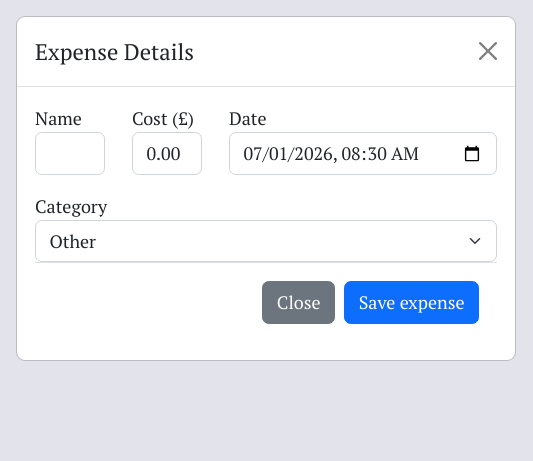
Test: ExpenseFormModal › stays open and explains a rejected save
This screenshot has width=533, height=461.
Type "Refund" into the field labelled "Name". click: (70, 154)
box: [35, 132, 105, 175]
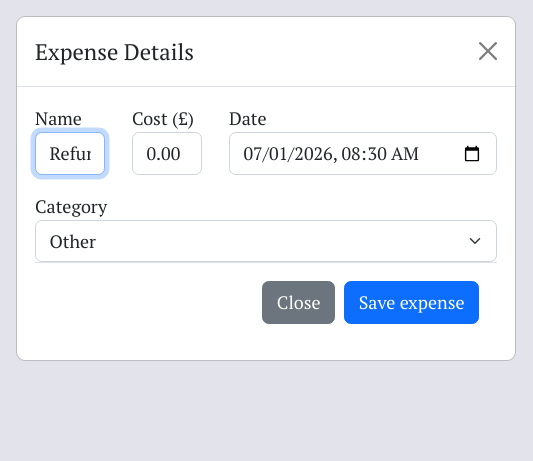
Replace the text in the field labelled "Cost (£)" with "-5.00". click: (167, 154)
box: [132, 132, 202, 175]
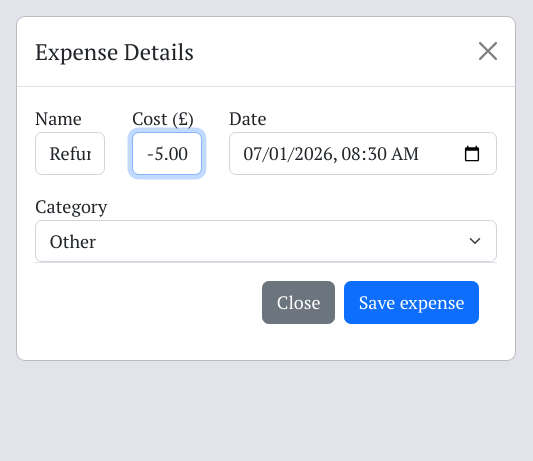
Click the button "Save expense". click: (412, 303)
box: [344, 281, 479, 324]
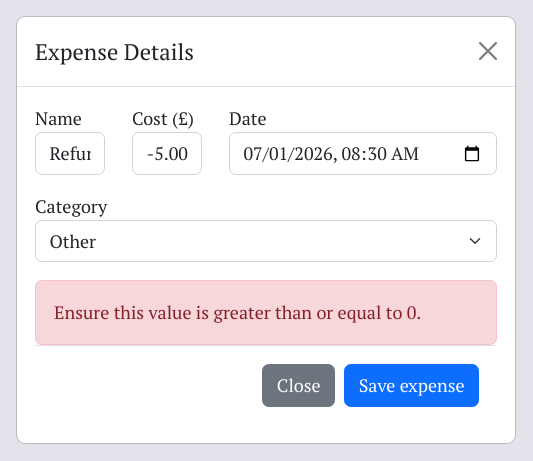
Result: the message reads "Ensure this value is greater than or equal to 0." at [54, 300, 421, 324]
